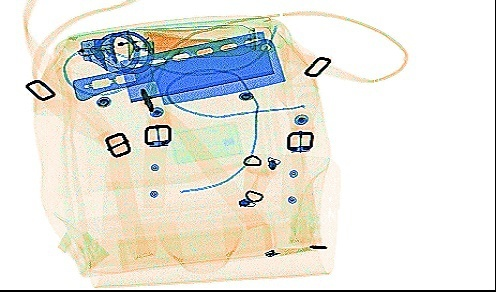handcuffs: (78, 29, 154, 75)
knife: (71, 37, 285, 106)
